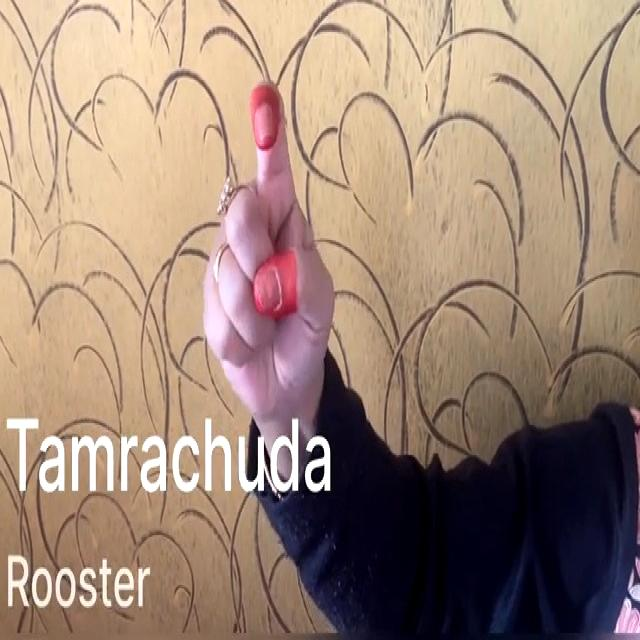Tamrachuda: (188, 37, 343, 408)
text: (6, 407, 336, 513), (4, 537, 152, 624)
